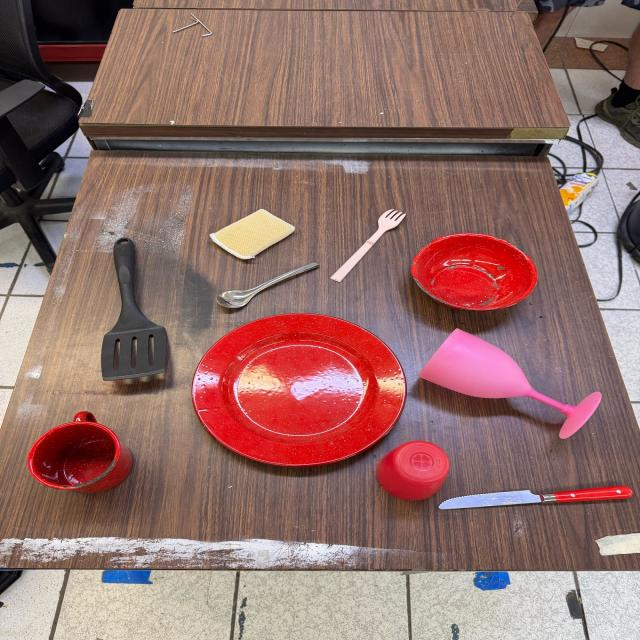cup: (27, 408, 136, 492)
fork: (328, 208, 408, 282)
glass: (375, 438, 451, 502)
knife: (445, 485, 633, 511)
plate: (191, 316, 407, 469)
spatula: (99, 236, 168, 384)
sponge: (210, 208, 298, 260)
spoon: (215, 262, 323, 309)
tazon: (408, 232, 539, 315)
wineglass: (419, 328, 599, 438)
